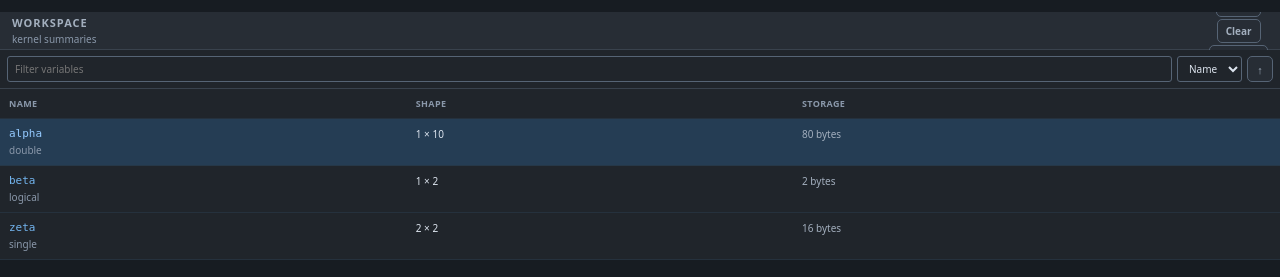
it: WorkspacePane › filters by name or type and reports an empty match
Type "logical" into the search field named "Filter workspace variables" at (590, 69), box [7,56,1172,82]
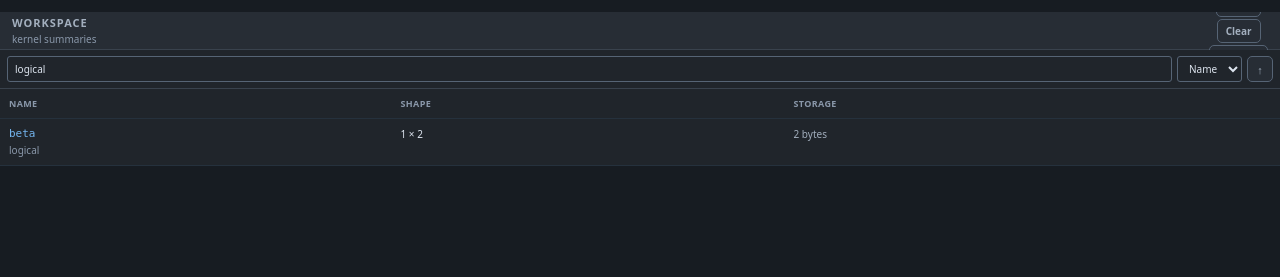
Replace the text in the search field named "Filter workspace variables" with "missing" at (590, 69), box [7,56,1172,82]
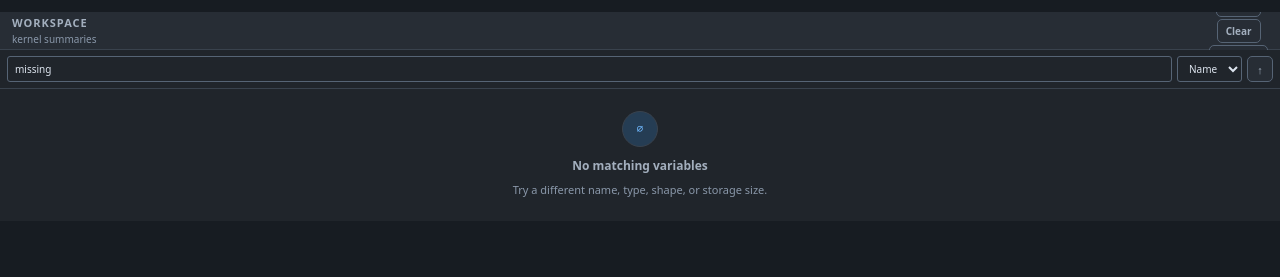
Check: the text "No matching variables" is shown, box [572,157,708,175]
